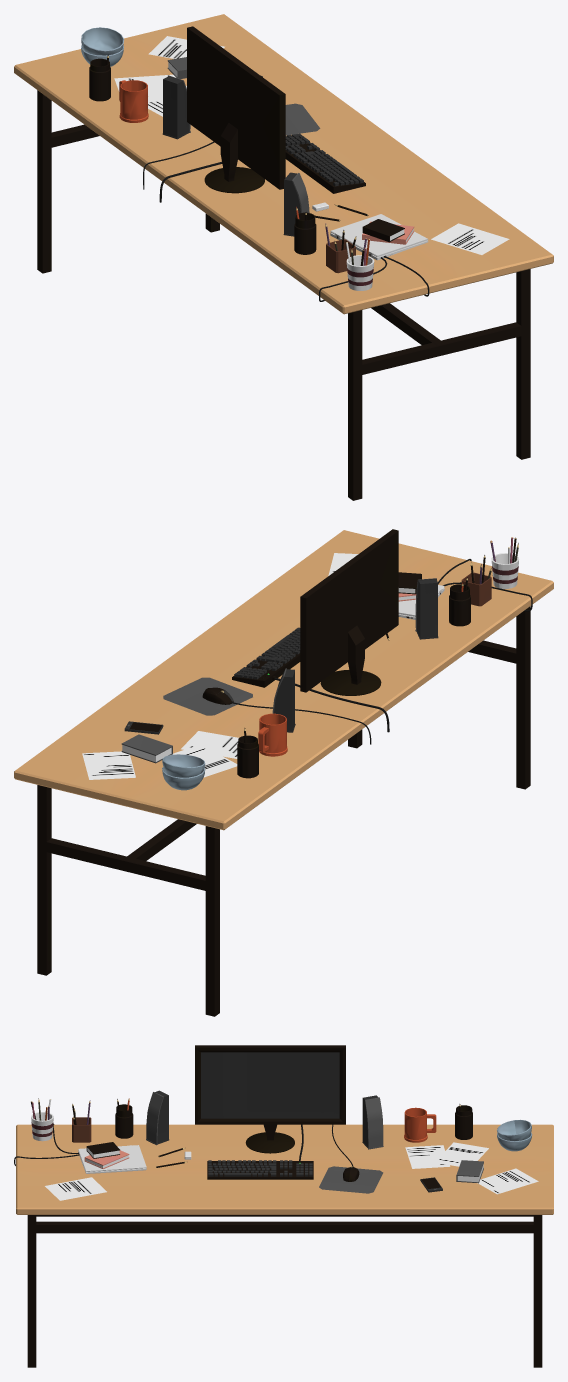
File: desk.glb
3 views of the same model, one above another, from view 1: azimuth 30°, elevation 25°; view 2: azimuth 150°, elevation 25°; view 3: azimuth 270°, elevation 25° (orthographic). The views are drawn at different scales.
Visible parts, largest first — view 1: Desk_Desk_0, PC_Monitor_PC_Monitor_0, Paper_Paper_0, Boxes_Boxes_0, PC_Speaker_PC_Speakers_0, PC_Keyboard_PC_Keyboard_0, Boxes_B_Tranaparency_0, Notebook_Notebook_0, Books_Books_0, Dish_Cup_0, Mousepad_Mousepad_0, Keyboard_wire_WIre_0 (+1 smaller); view 2: Desk_Desk_0, PC_Monitor_PC_Monitor_0, Paper_Paper_0, Boxes_Boxes_0, PC_Speaker_PC_Speakers_0, PC_Keyboard_PC_Keyboard_0, Boxes_B_Tranaparency_0, Mousepad_Mousepad_0, Books_Books_0, Dish_Cup_0, Keyboard_wire_WIre_0, Pen_Pen_0; view 3: Desk_Desk_0, PC_Monitor_PC_Screen_0, PC_Monitor_PC_Monitor_0, Paper_Paper_0, PC_Speaker_PC_Speakers_0, PC_Keyboard_PC_Keyboard_0, Boxes_Boxes_0, Books_Books_0, Boxes_B_Tranaparency_0, Mousepad_Mousepad_0, Notebook_Notebook_0, Dish_Cup_0 (+1 smaller).
Boxes of the visible parts, x1=… form: Desk_Desk_0: x1=14, y1=14, x2=553, y2=500; PC_Monitor_PC_Monitor_0: x1=187, y1=26, x2=285, y2=193; Paper_Paper_0: x1=114, y1=36, x2=509, y2=254; Boxes_Boxes_0: x1=119, y1=80, x2=374, y2=290; PC_Speaker_PC_Speakers_0: x1=162, y1=75, x2=309, y2=236; PC_Keyboard_PC_Keyboard_0: x1=285, y1=133, x2=365, y2=193; Boxes_B_Tranaparency_0: x1=89, y1=58, x2=316, y2=254; Notebook_Notebook_0: x1=330, y1=214, x2=428, y2=260; Books_Books_0: x1=167, y1=57, x2=414, y2=244; Dish_Cup_0: x1=81, y1=27, x2=124, y2=66; Mousepad_Mousepad_0: x1=285, y1=103, x2=320, y2=135; Keyboard_wire_WIre_0: x1=143, y1=141, x2=429, y2=301; Desk_Desk_0: x1=14, y1=530, x2=553, y2=1016; PC_Monitor_PC_Monitor_0: x1=300, y1=529, x2=398, y2=695; Paper_Paper_0: x1=82, y1=553, x2=358, y2=779; Boxes_Boxes_0: x1=258, y1=553, x2=518, y2=756; PC_Speaker_PC_Speakers_0: x1=272, y1=578, x2=438, y2=732; PC_Keyboard_PC_Keyboard_0: x1=232, y1=627, x2=300, y2=687; Boxes_B_Tranaparency_0: x1=237, y1=584, x2=470, y2=778; Mousepad_Mousepad_0: x1=163, y1=677, x2=252, y2=715; Books_Books_0: x1=121, y1=572, x2=421, y2=763; Dish_Cup_0: x1=162, y1=754, x2=205, y2=790; Keyboard_wire_WIre_0: x1=231, y1=559, x2=532, y2=744; Pen_Pen_0: x1=244, y1=537, x2=518, y2=743; Desk_Desk_0: x1=16, y1=1124, x2=553, y2=1367; PC_Monitor_PC_Screen_0: x1=201, y1=1052, x2=339, y2=1118; PC_Monitor_PC_Monitor_0: x1=195, y1=1045, x2=345, y2=1153; Paper_Paper_0: x1=45, y1=1142, x2=538, y2=1200; PC_Speaker_PC_Speakers_0: x1=146, y1=1090, x2=383, y2=1149; PC_Keyboard_PC_Keyboard_0: x1=207, y1=1160, x2=313, y2=1179; Boxes_Boxes_0: x1=31, y1=1107, x2=436, y2=1142; Books_Books_0: x1=84, y1=1142, x2=483, y2=1183; Boxes_B_Tranaparency_0: x1=115, y1=1104, x2=472, y2=1139; Mousepad_Mousepad_0: x1=319, y1=1166, x2=383, y2=1193; Notebook_Notebook_0: x1=78, y1=1145, x2=146, y2=1173; Dish_Cup_0: x1=497, y1=1119, x2=532, y2=1151.
Size of the model in its own units: 231 by 324 by 602.
Materials: 19 (17 with a texture image).
